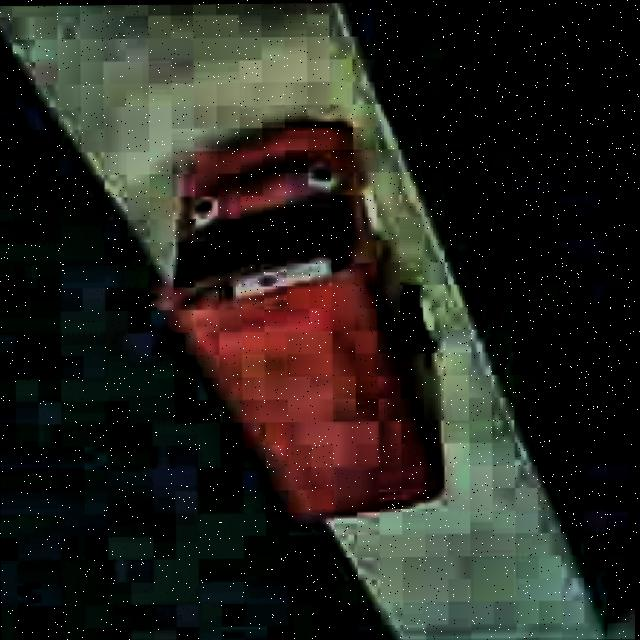bus: (150, 115, 450, 526)
